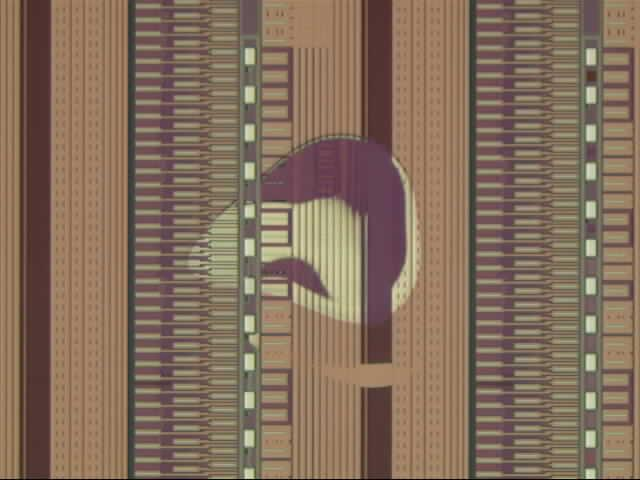BLOCK ETCH: (186, 132, 431, 334)
